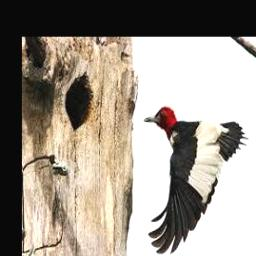Woodpecker: (145, 107, 249, 254)
